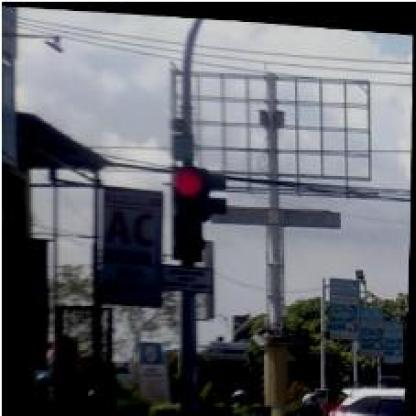red: (168, 162, 206, 259)
